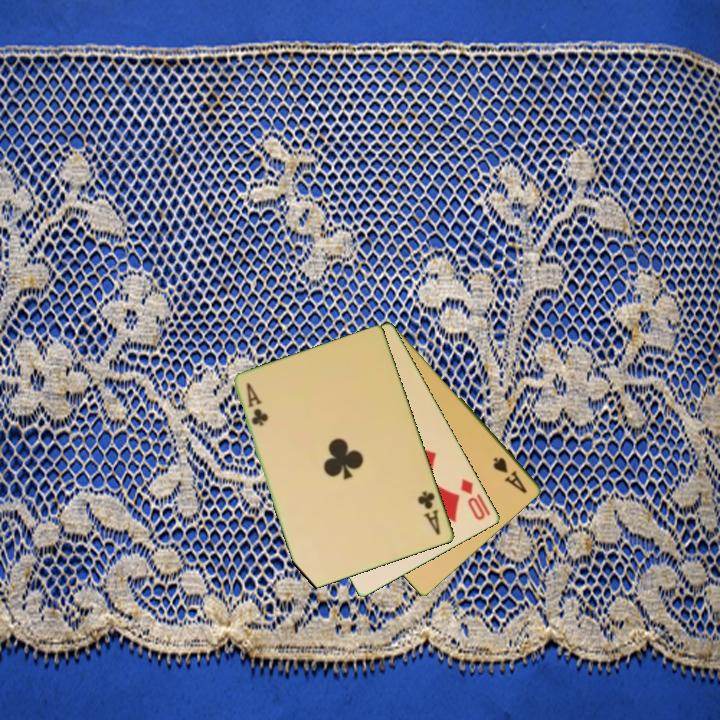10d: (457, 475, 488, 524)
Ac: (414, 488, 443, 538), (243, 379, 271, 429)
As: (490, 454, 530, 497)
